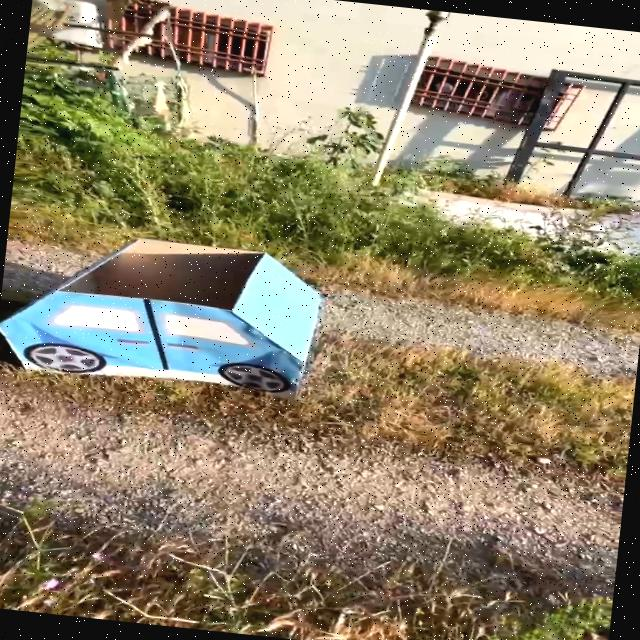blue_car: (0, 201, 364, 435)
